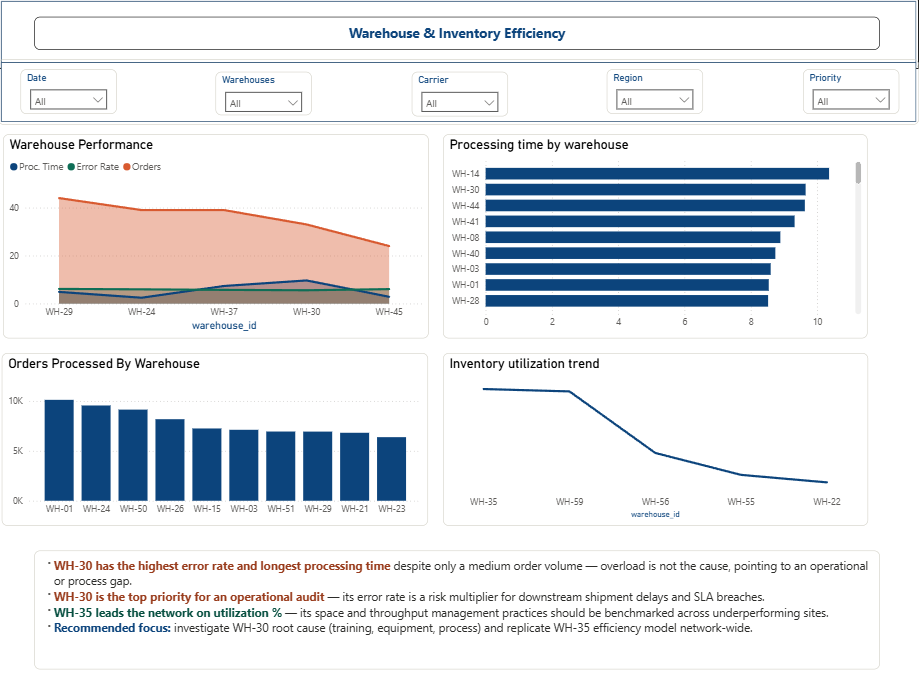

What the dashboard file says about the page in this screenshot:
{"tool":"powerbi","page":{"name":"Warehouses","canvas":[1280,951],"ordinal":1},"visuals":[{"type":"shape","box":[0,0,1270.7,97.4],"z":0},{"type":"textbox","box":[50.8,26.1,1166.4,45.3],"z":1000},{"type":"shape","box":[0,83.7,1270.7,90.6],"z":2000},{"type":"slicer","title":"Date","fields":{"Values":["Calendar.Date.Variation.Date Hierarchy.Month"]},"box":[30.2,97.4,133.1,61.7],"z":3000},{"type":"slicer","title":"Warehouses","fields":{"Values":["public warehouse_clean.warehouse_id"]},"box":[300.2,101.5,133.1,60.4],"z":4000},{"type":"slicer","title":"Priority","fields":{"Values":["public orders_clean.order_priority"]},"box":[1110.1,98.8,133.1,61.7],"z":5000},{"type":"slicer","title":"Carrier","fields":{"Values":["public shipments_stagging.carrier_name"]},"box":[570.2,101.5,133.1,61.7],"z":6000},{"type":"slicer","title":"Region","fields":{"Values":["public warehouse_clean.region"]},"box":[840.1,97.4,133.1,61.7],"z":7000},{"type":"areaChart","title":"Warehouse Performance","fields":{"Category":["public warehouse_clean.warehouse_id"],"Y":["Calendar.Proc. Time","Avg(public warehouses_orders_clean.error_rate_percentage)","Count(public orders_clean.order_id)"]},"box":[6.9,188,587.3,281.3],"z":8000},{"type":"clusteredBarChart","title":"Processing time by warehouse","fields":{"Y":["Avg(public warehouses_orders_clean.avg_processing_time_hours)"],"Category":["public warehouses_orders_clean.warehouse_id"]},"box":[613.4,188,585.9,281.3],"z":9000},{"type":"lineStackedColumnComboChart","title":"Orders Processed By Warehouse","fields":{"Y":["Sum(public warehouses_orders_clean.orders_processed)"],"Category":["public warehouse_clean.warehouse_id"]},"box":[6,490,588,238],"z":10000},{"type":"lineChart","title":"Inventory utilization trend","fields":{"Y":["Avg(public warehouses_orders_clean.utilization_percentage)"],"Category":["public warehouses_orders_clean.warehouse_id"]},"box":[614,490,586,238],"z":11000},{"type":"textbox","box":[50,762,1166,164],"z":12000}]}

Visuals, with their boxes in screenshot pixels (x1, y1, x2, y2), scaled from the page's 1280x951 canvas onto the 922x681 screenshot:
shape: crop(0, 0, 915, 70)
textbox: crop(37, 19, 877, 51)
shape: crop(0, 60, 915, 125)
"Date" slicer: crop(22, 70, 118, 114)
"Warehouses" slicer: crop(216, 73, 312, 116)
"Priority" slicer: crop(800, 71, 895, 115)
"Carrier" slicer: crop(411, 73, 507, 117)
"Region" slicer: crop(605, 70, 701, 114)
"Warehouse Performance" areaChart: crop(5, 135, 428, 336)
"Processing time by warehouse" clusteredBarChart: crop(442, 135, 864, 336)
"Orders Processed By Warehouse" lineStackedColumnComboChart: crop(4, 351, 428, 521)
"Inventory utilization trend" lineChart: crop(442, 351, 864, 521)
textbox: crop(36, 546, 876, 663)
